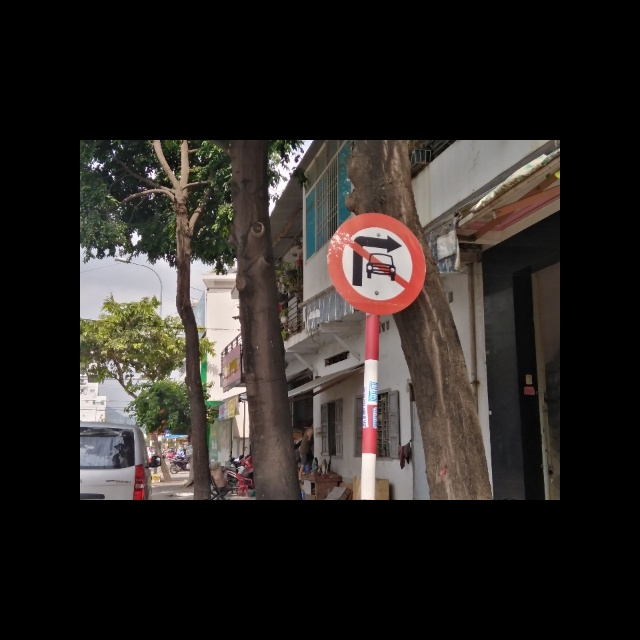Cấm xe ô tô rẽ trái: (326, 212, 428, 316)
